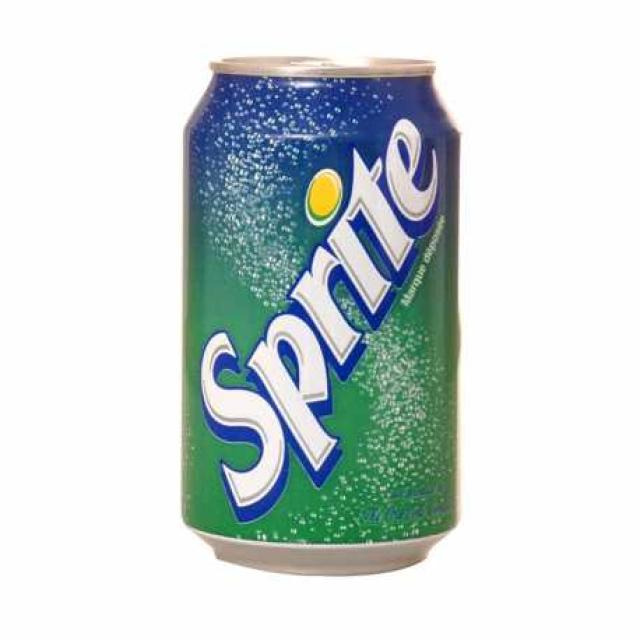soda_can: (165, 37, 450, 576)
